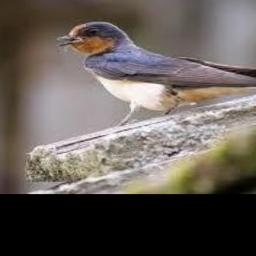Swallow: (55, 22, 256, 126)
